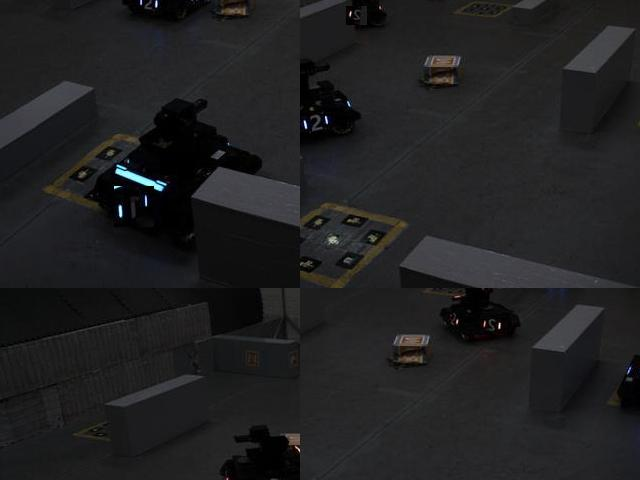armor: (114, 186, 155, 228), (300, 110, 336, 138), (480, 315, 507, 336), (346, 7, 368, 27), (443, 311, 462, 330), (137, 0, 162, 13), (255, 474, 293, 479), (186, 0, 203, 5)
